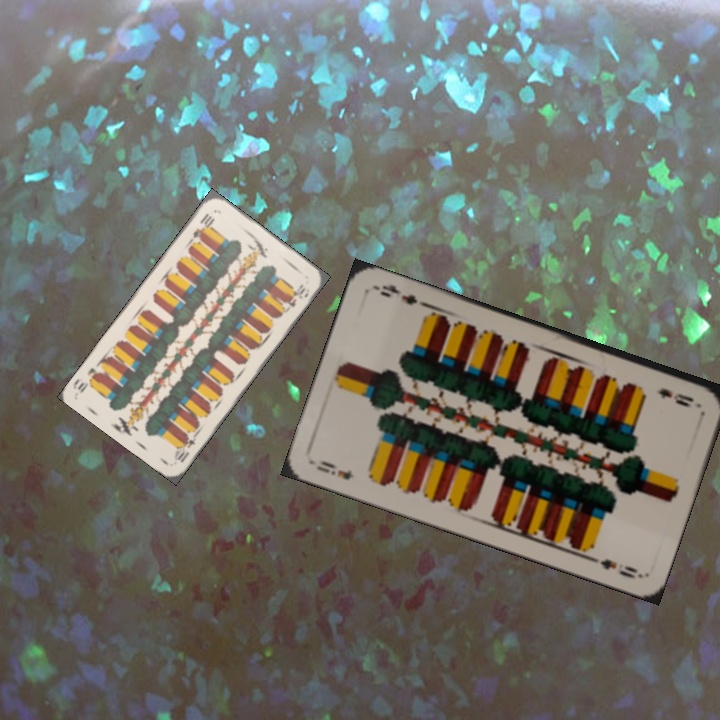E10: (170, 430, 200, 465), (189, 209, 217, 242)
E9: (312, 456, 357, 483), (653, 384, 697, 410)
